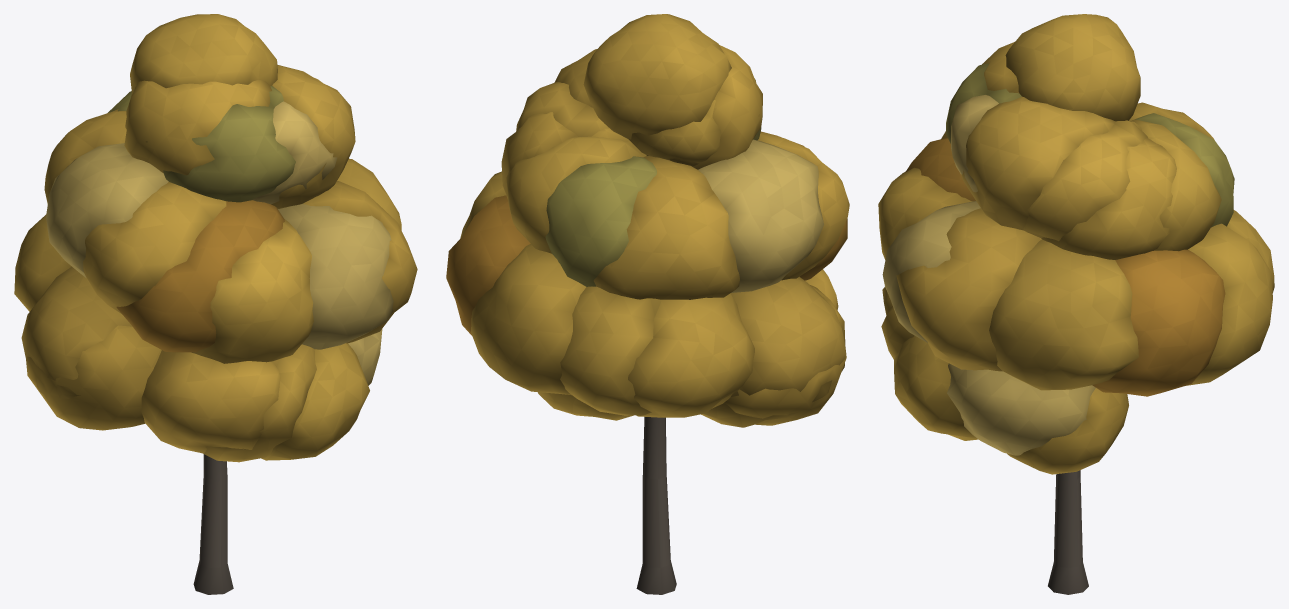
Rendered from nature_tree_ginkgo_01.glb.
3 views of the same model, side by side, from view 1: azimuth 30°, elevation 25°; view 2: azimuth 150°, elevation 25°; view 3: azimuth 270°, elevation 25° (orthographic).
Parts seen in each view (by area): view 1: nature_tree_ginkgo_01; view 2: nature_tree_ginkgo_01; view 3: nature_tree_ginkgo_01.
Boxes of the visible parts, bbox=[...] form: nature_tree_ginkgo_01: bbox=[14, 14, 417, 594]; nature_tree_ginkgo_01: bbox=[446, 14, 849, 594]; nature_tree_ginkgo_01: bbox=[878, 14, 1274, 594].
Bounding box in the file's own units: 5.38 × 8.13 × 5.17.
